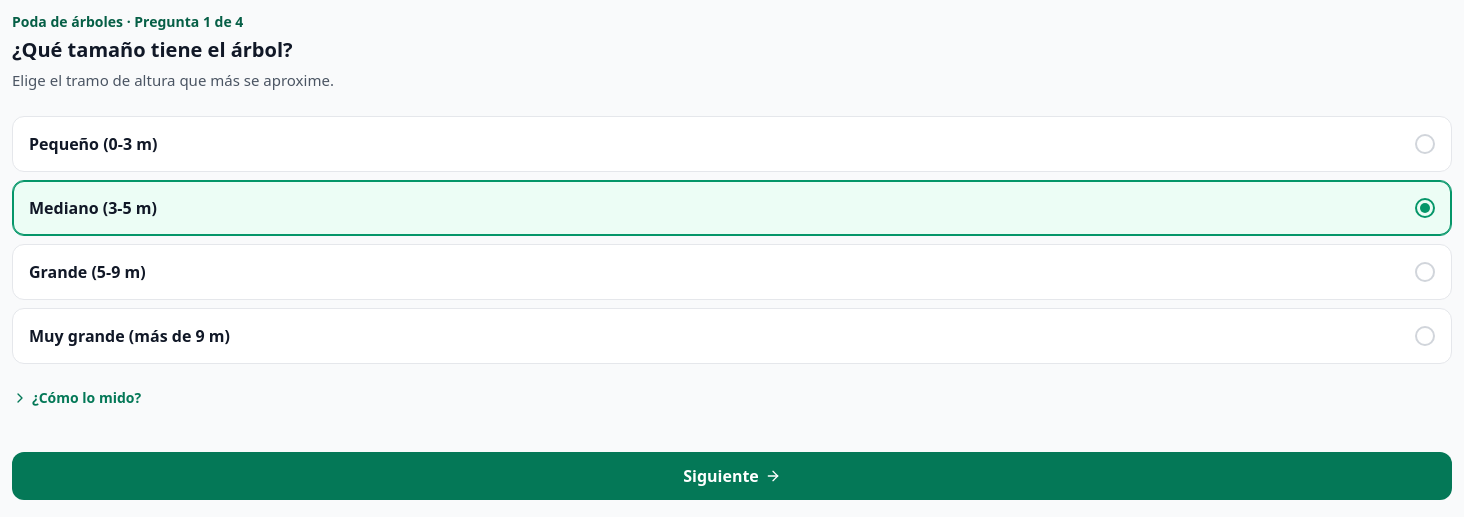
Test case: árboles · acceso compacto › segmentado «Acceso normal / Acceso difícil» con la definición en la frase de apoyo
Later steps or results of the test are not shown.
Click the button "Siguiente" at {"x": 732, "y": 476}, box [12,452,1452,500]
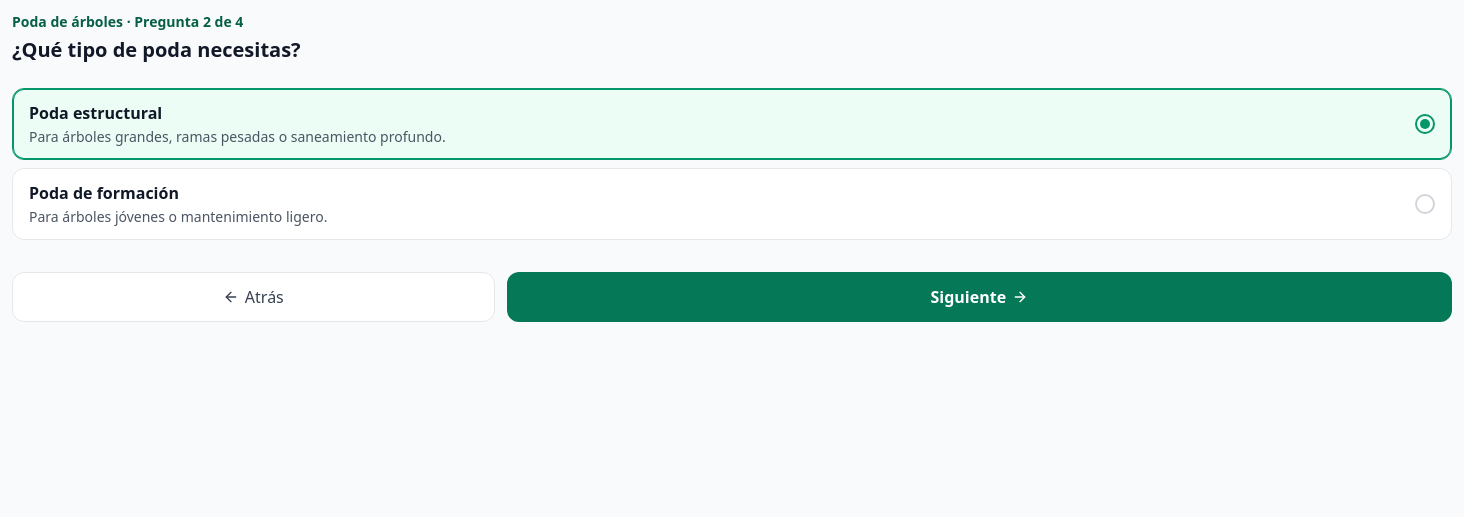
Click the button "Siguiente" at {"x": 979, "y": 297}, box [507,272,1452,322]
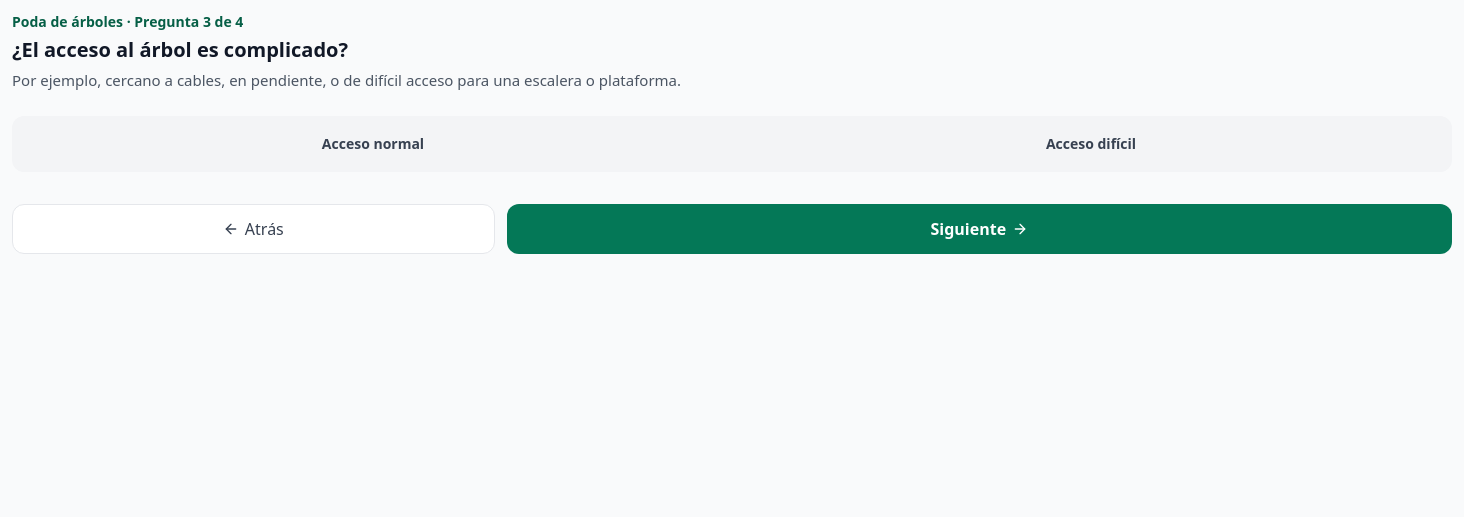
Now the heading reads "¿El acceso al árbol es complicado?", box [12,36,348,63]
Now the text "cercano a cables, en pendiente" is shown, box [12,70,681,90]
